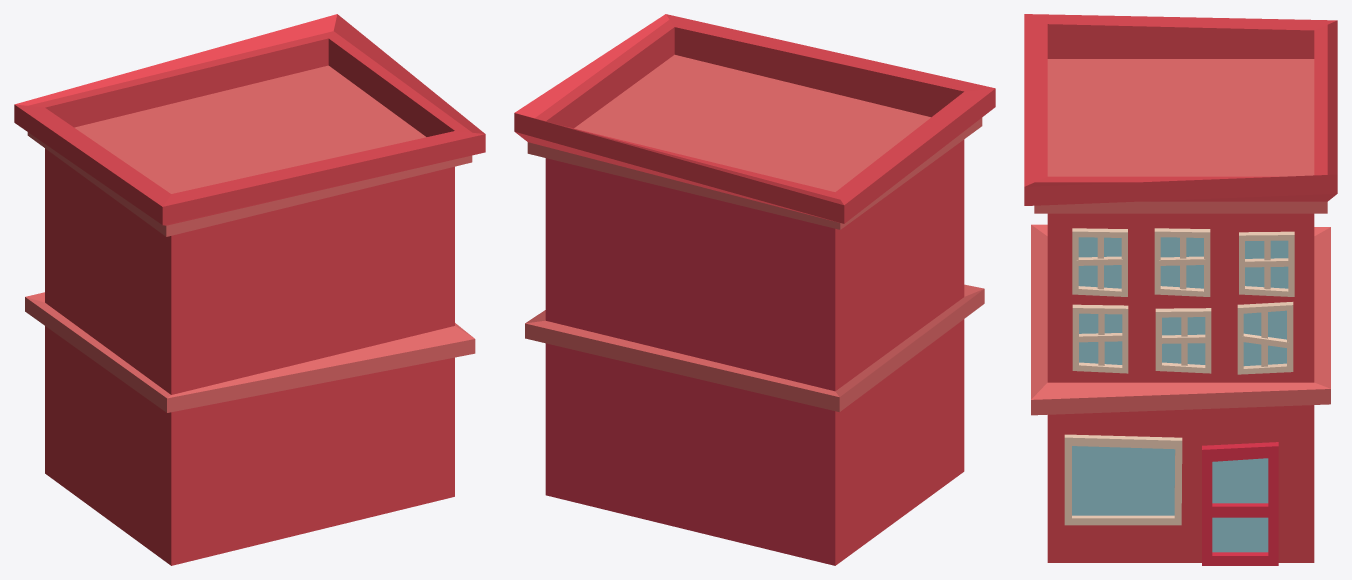
The model's file is Red_flat.fbx.
3 renders of one model, left to right at view 1: azimuth 30°, elevation 25°; view 2: azimuth 150°, elevation 25°; view 3: azimuth 270°, elevation 25°, orthographic. The views are drawn at different scales.
Visible parts, largest first — view 1: Red flat; view 2: Red flat; view 3: Red flat.
Boxes of the visible parts, bbox=[...] form: Red flat: bbox=[14, 14, 485, 565]; Red flat: bbox=[514, 14, 995, 565]; Red flat: bbox=[1024, 14, 1337, 565].
Bounding box in the file's own units: 1302 × 1453 × 1034.
